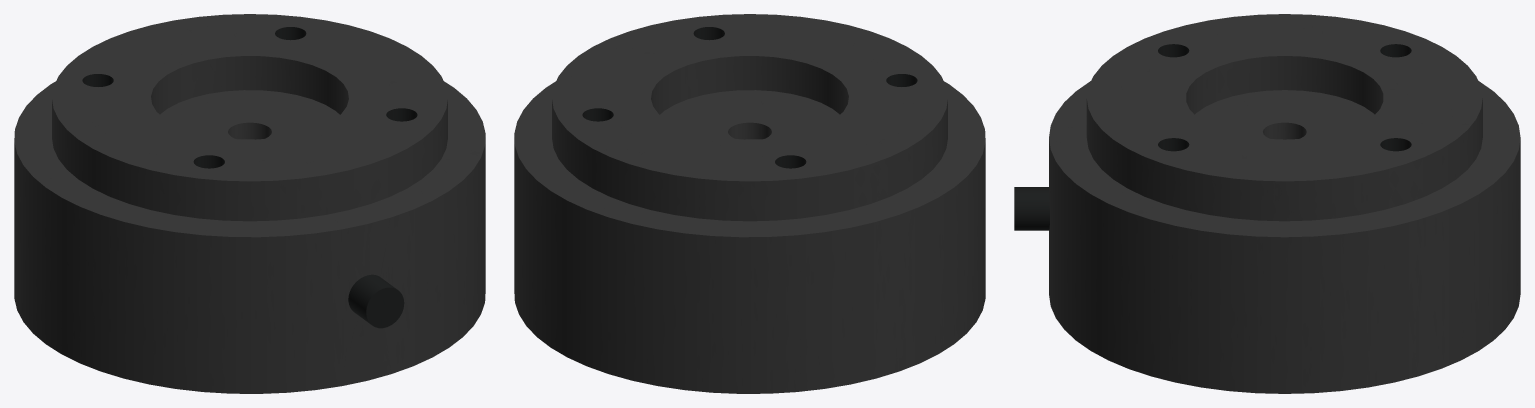
Rendered from wrist3.obj.
3 views of the same model, side by side, from view 1: azimuth 30°, elevation 25°; view 2: azimuth 150°, elevation 25°; view 3: azimuth 270°, elevation 25° (orthographic).
Size of the model in its own units: 0.075 by 0.0345 by 0.0805.
1 material, 1 textured.
